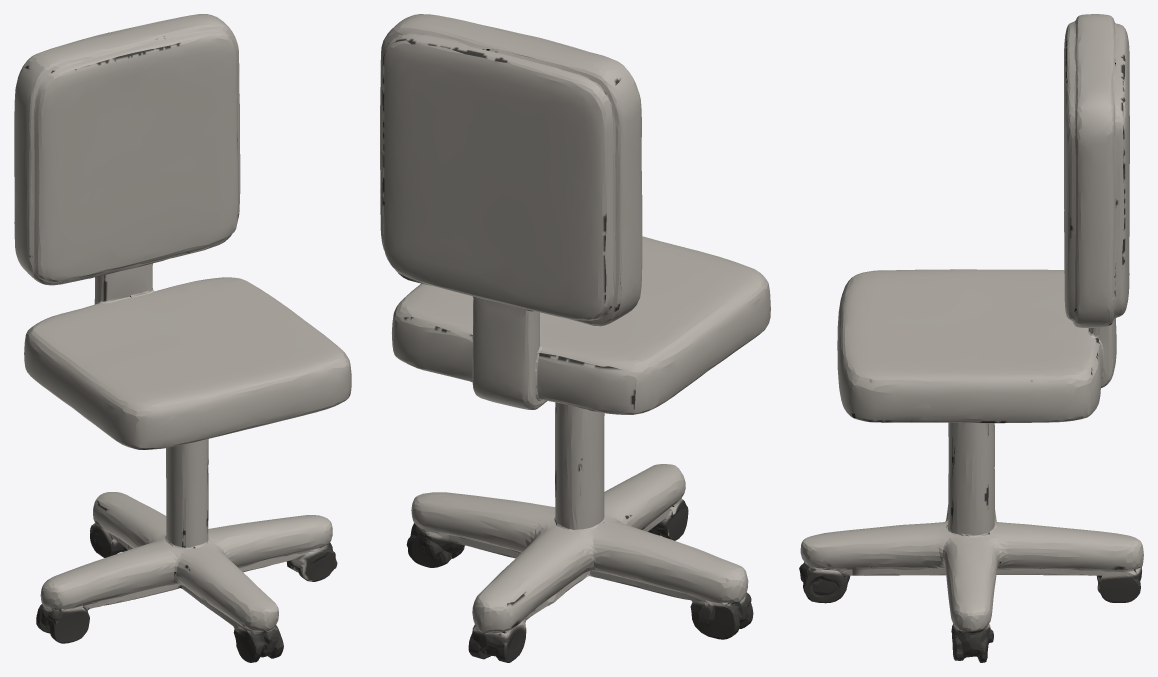
The model's file is DesktopChair.fbx.
3 views of the same model, side by side, from view 1: azimuth 30°, elevation 25°; view 2: azimuth 150°, elevation 25°; view 3: azimuth 270°, elevation 25° (orthographic). The views are drawn at different scales.
Parts seen in each view (by area): view 1: Mesh1.0; view 2: Mesh1.0; view 3: Mesh1.0.
Boxes of the visible parts, <box> form: Mesh1.0: <box>14,14,351,662</box>; Mesh1.0: <box>380,14,770,662</box>; Mesh1.0: <box>799,14,1143,662</box>.
Bounding box in the file's own units: 115 × 201 × 116.
Materials: 1 (1 with a texture image).
